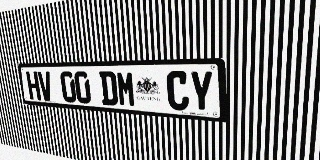0: (73, 71, 91, 104), (59, 71, 77, 103)
C: (166, 71, 189, 111)
D: (99, 71, 118, 106)
H: (26, 71, 41, 100)
M: (116, 71, 136, 107)
V: (37, 71, 53, 101)
Y: (189, 71, 213, 113)
